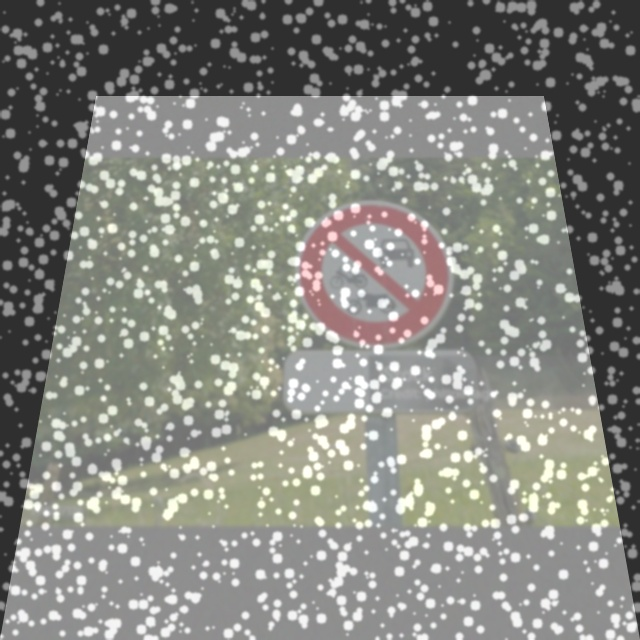All_Motor_Vehicles_Prohibited: (293, 199, 456, 349)
